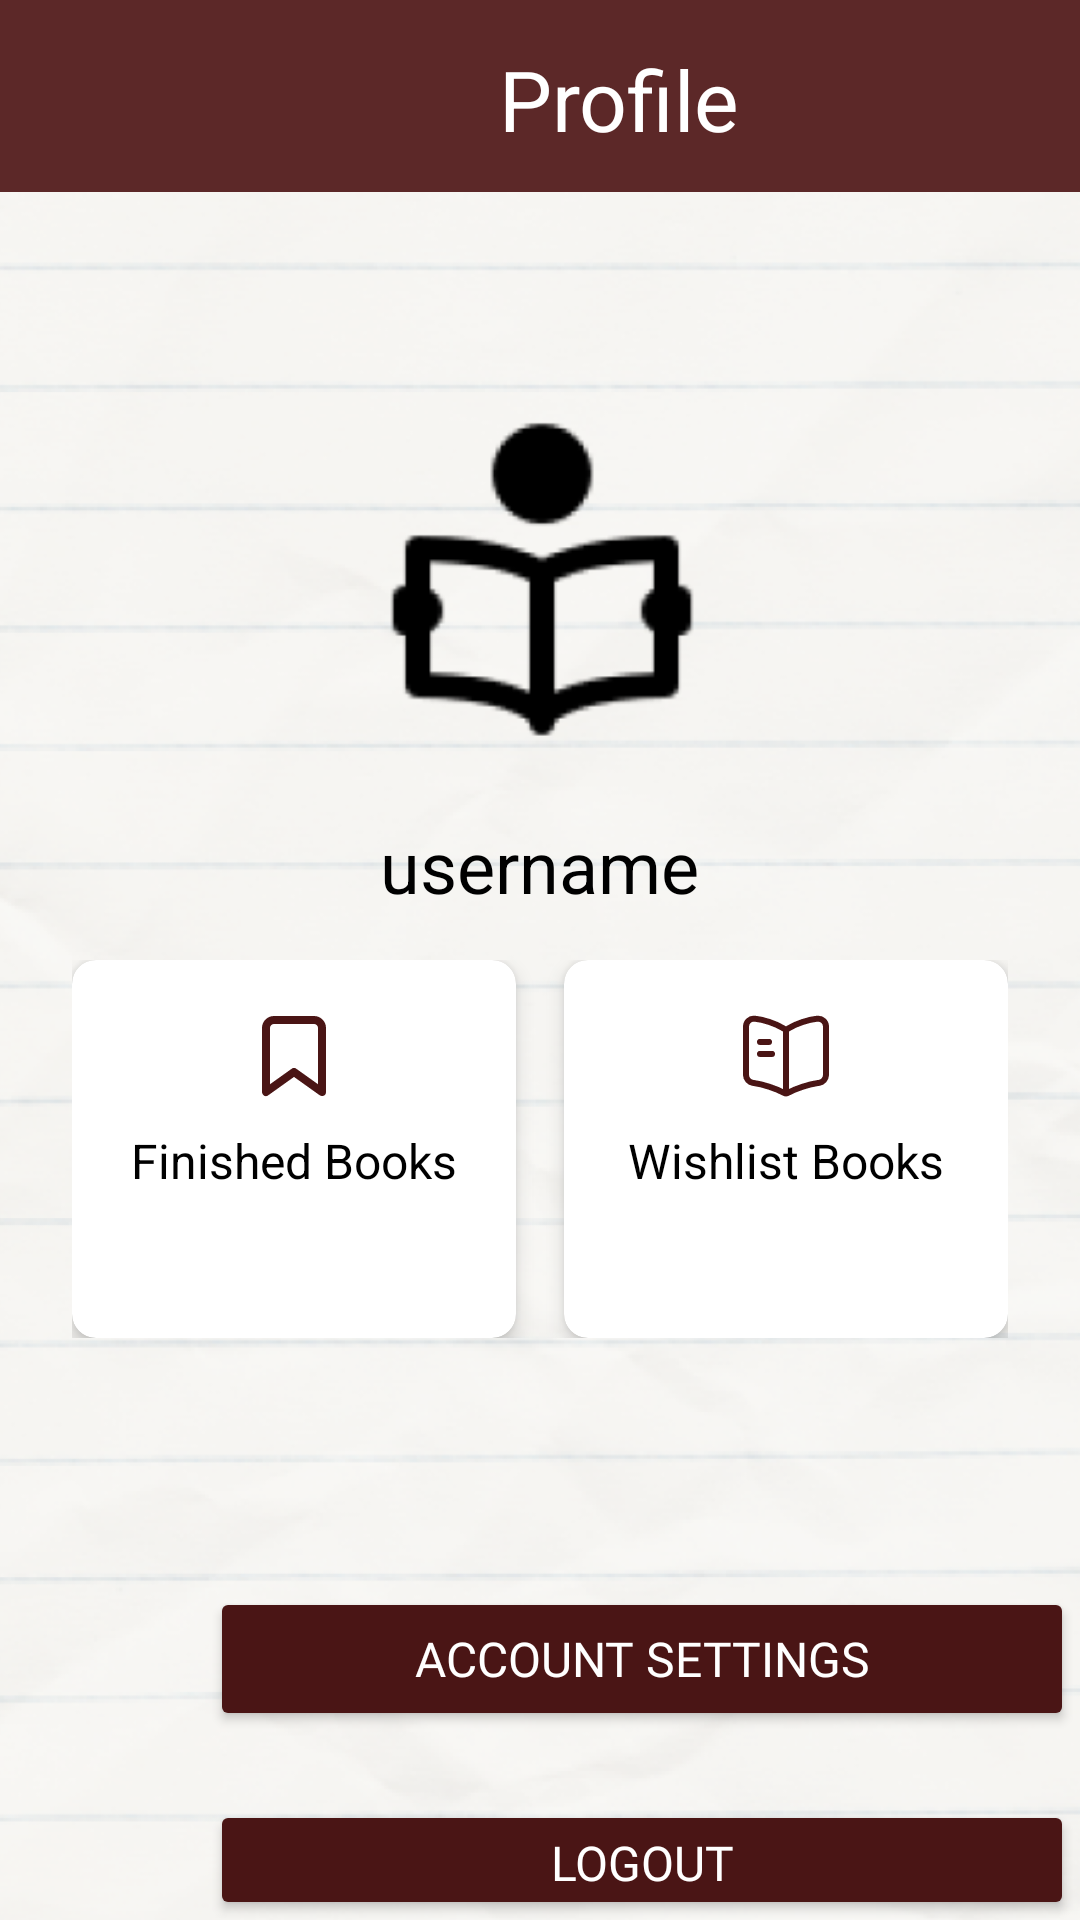

Point at icon controls on the screen. Image size 1080px x 1920px, points as point (x, y).
reading: point (534, 579)
